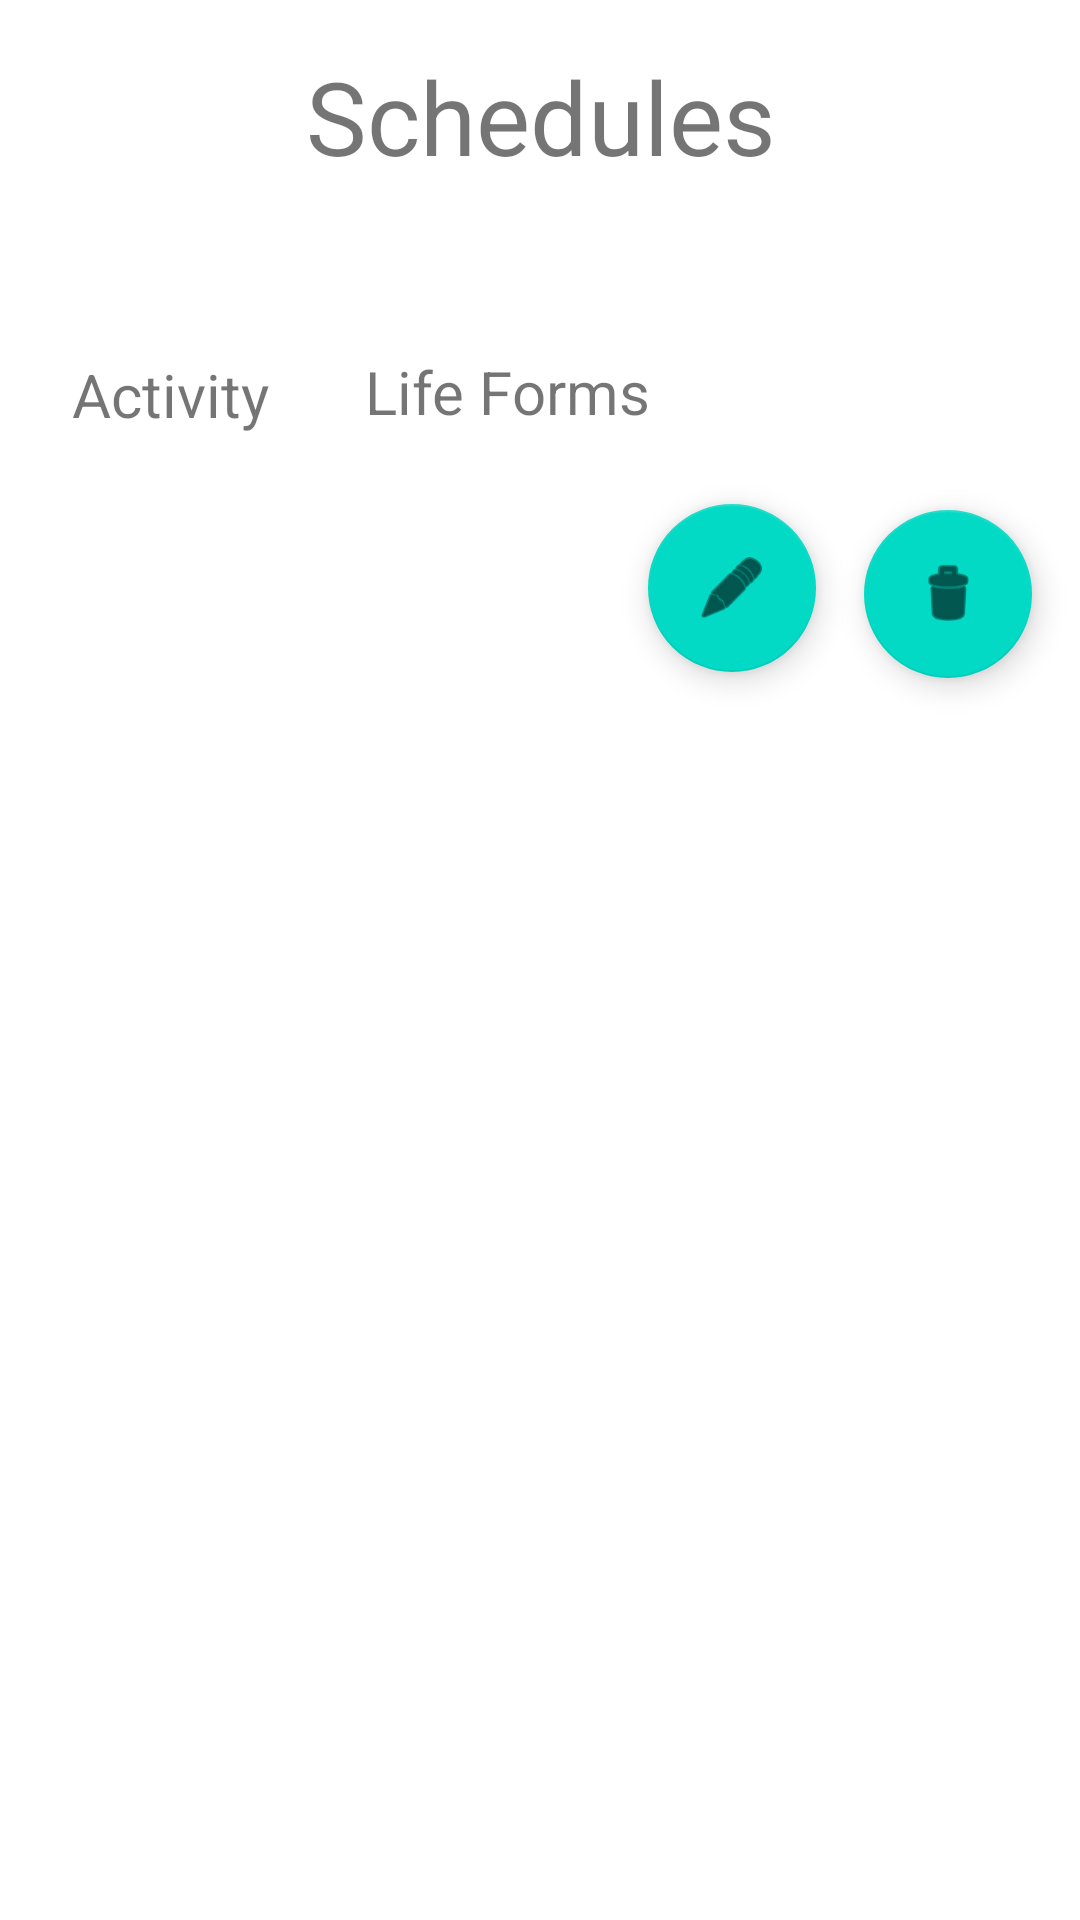

Where to tap for icons on this 1080 x 1920 app screen, as point (x, y):
delete: point (948, 594)
edit: point (732, 588)
